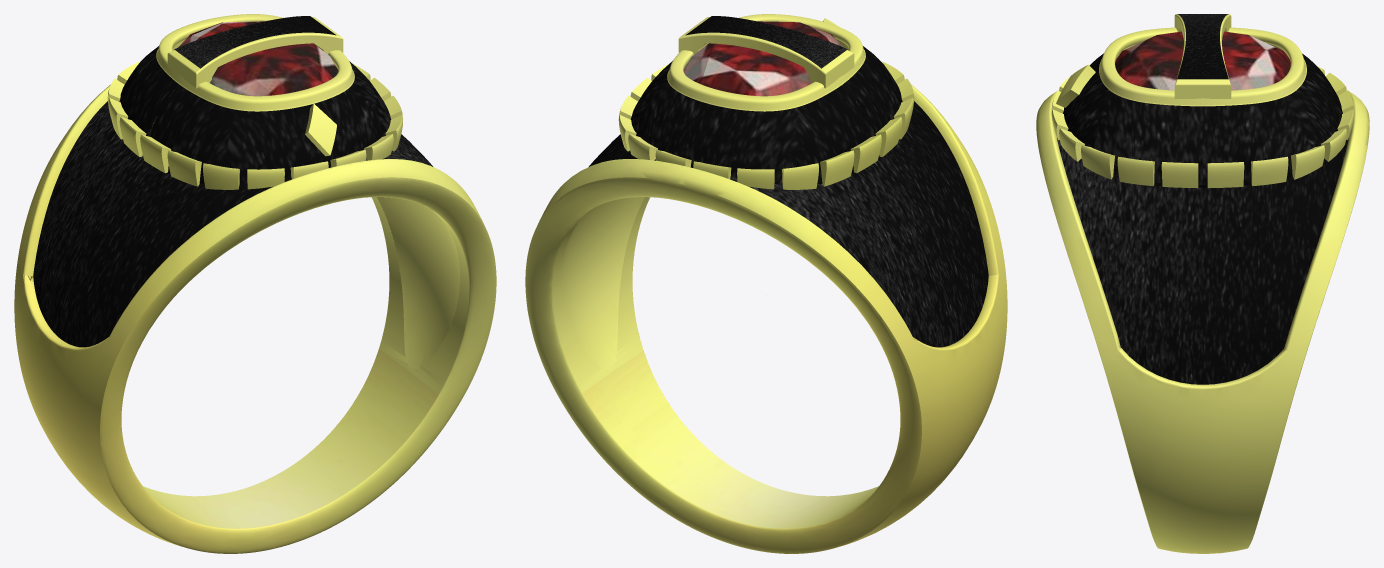
File: ring33.glb
The picture shows the model from 3 angles, left to right: view 1: azimuth 30°, elevation 25°; view 2: azimuth 150°, elevation 25°; view 3: azimuth 270°, elevation 25°; orthographic projection.
Visible parts, largest first — view 1: body, black, core; view 2: body, black, core; view 3: black, body, core.
Boxes of the visible parts, box(x1,y1,x2,y2) form: body: box(14, 14, 496, 553); black: box(33, 16, 432, 347); core: box(178, 21, 338, 96); body: box(525, 14, 1007, 553); black: box(589, 16, 988, 347); core: box(683, 21, 843, 96); black: box(1057, 14, 1348, 384); body: box(1036, 14, 1369, 553); core: box(1115, 31, 1290, 90).
Size of the model in its own units: 25.8 by 30.21 by 18.42.
Materials: 4 (4 with a texture image).
